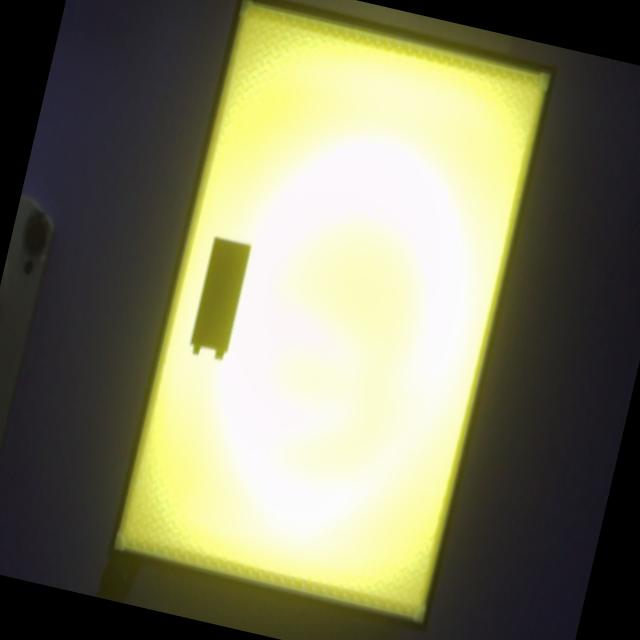bateria: (189, 235, 252, 359)
mesa: (106, 0, 557, 632)
